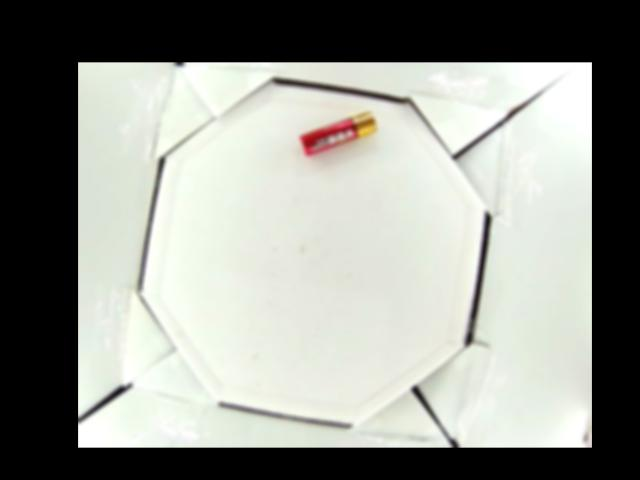Battery: (298, 110, 377, 155)
